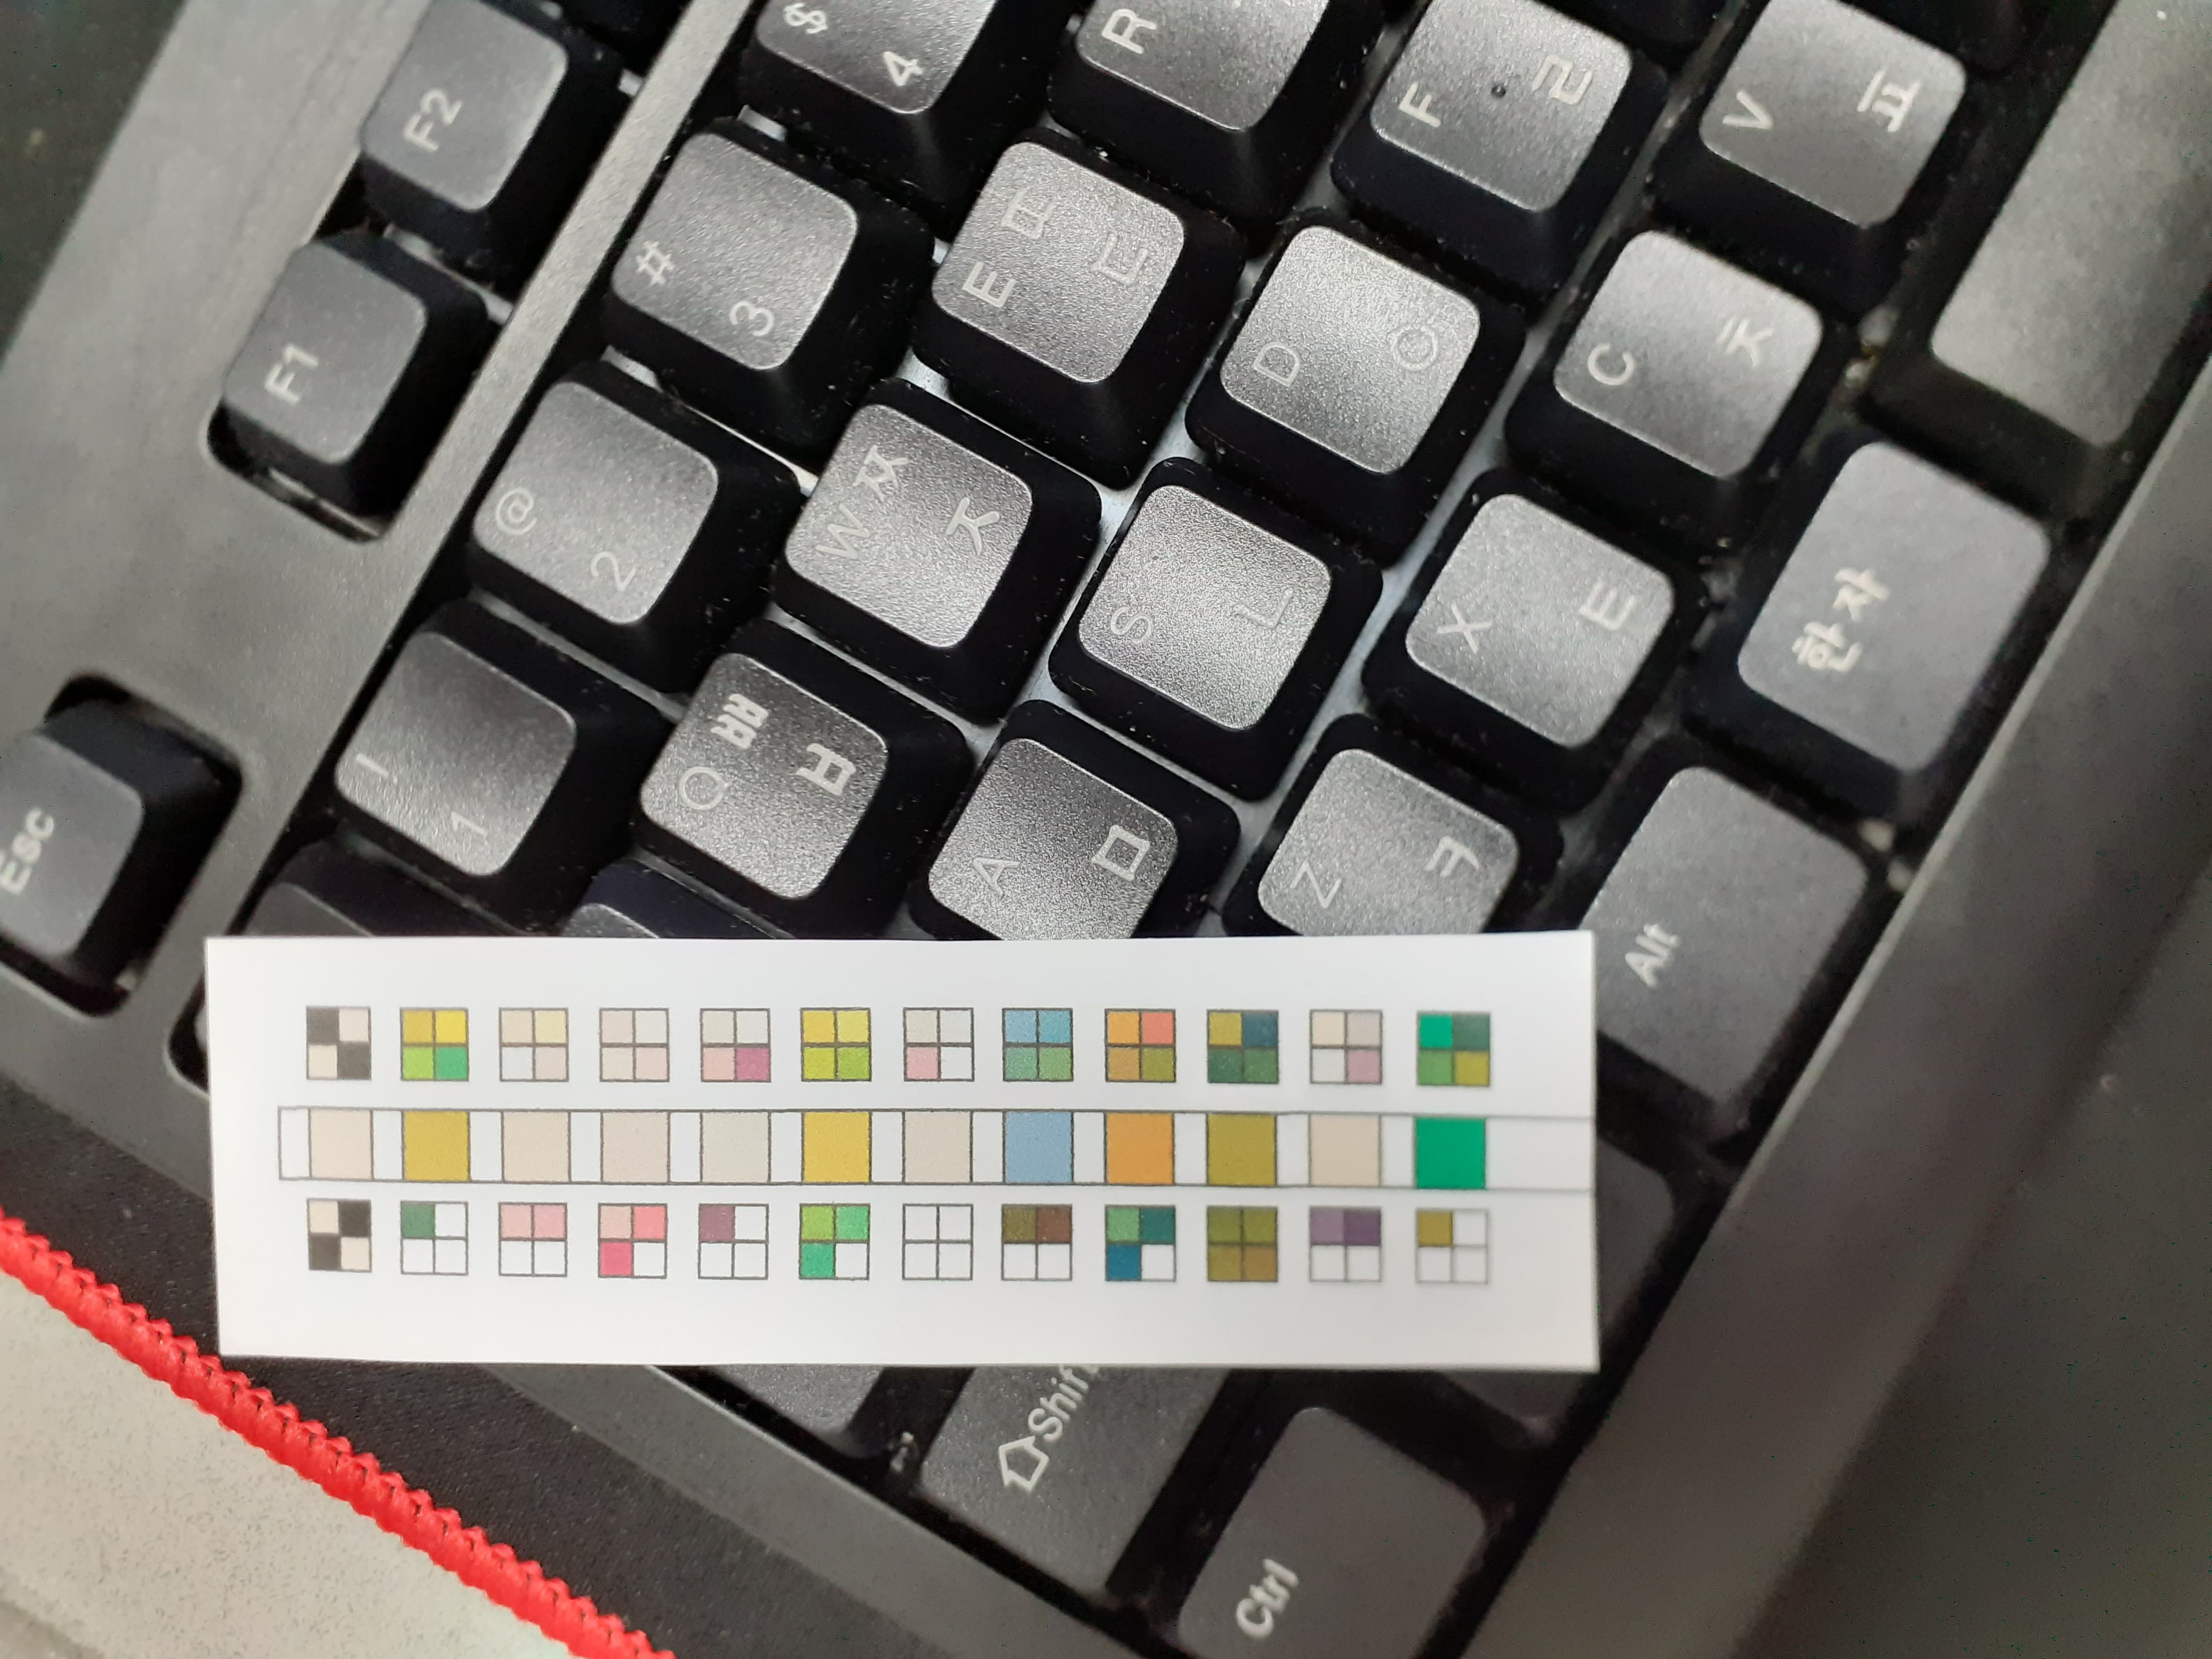tester: (206, 936, 1597, 1368)
